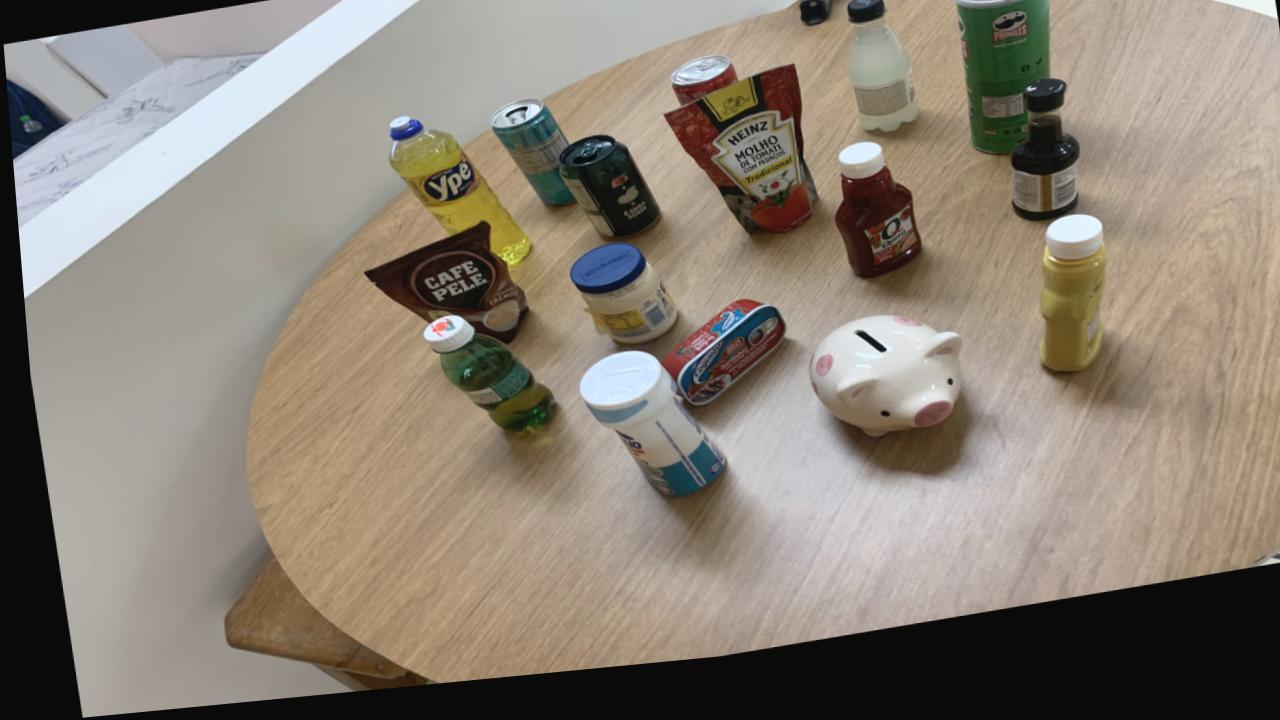Cleaner-Cleanup_Items: (571, 363, 716, 509)
Coffee-Pantry_Items: (360, 230, 522, 353)
Coke-Drinks: (667, 69, 735, 119)
Detergent-Cleanup_Items: (385, 124, 526, 276)
English_Sauce-Pantry_Items: (1006, 98, 1075, 241)
Guarana-Drinks: (416, 322, 545, 441)
Guarana_Can-Drinks: (554, 146, 654, 250)
Ketchup-Pantry_Items: (829, 159, 915, 294)
Mayonnaise-Pantry_Items: (563, 254, 671, 356)
Mustard-Pantry_Items: (1031, 236, 1100, 393)
Pig_Safe-Miscellaneous: (800, 331, 954, 453)
Pringles-Snacks: (949, 0, 1049, 174)
Soda-Drinks: (845, 11, 915, 149)
Tea-Drinks: (487, 109, 571, 216)
Tomato_Sauce-Pantry_Items: (661, 80, 814, 248)
Tuna_Can-Pantry_Items: (654, 312, 779, 418)
